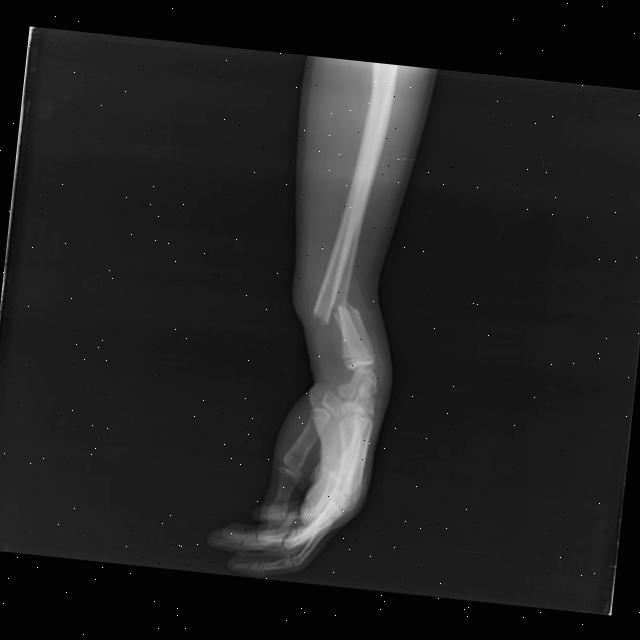Fracture: (331, 296, 361, 324), (307, 303, 331, 329)
